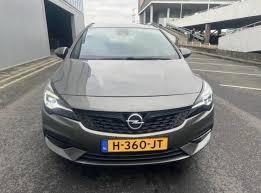opel: (121, 107, 150, 134)
